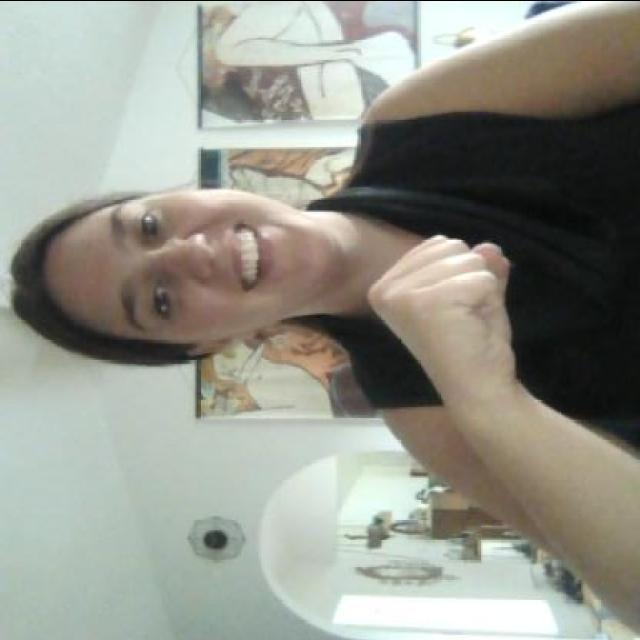Rock: (366, 225, 529, 397)
